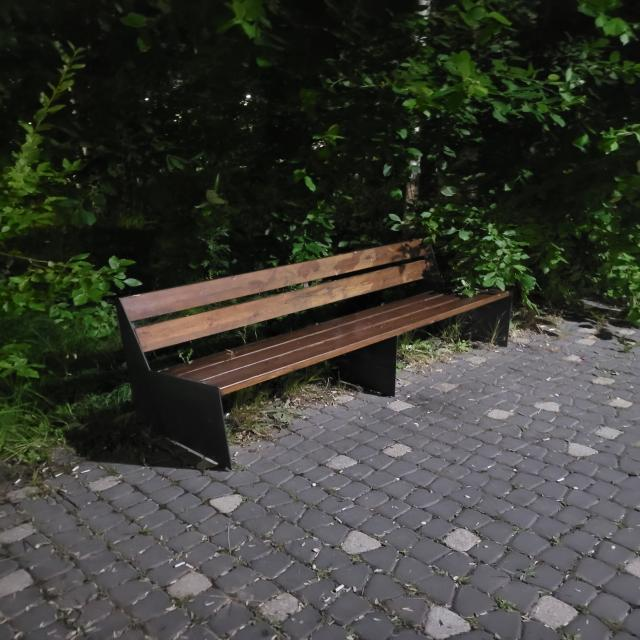Bench: (118, 237, 510, 469)
